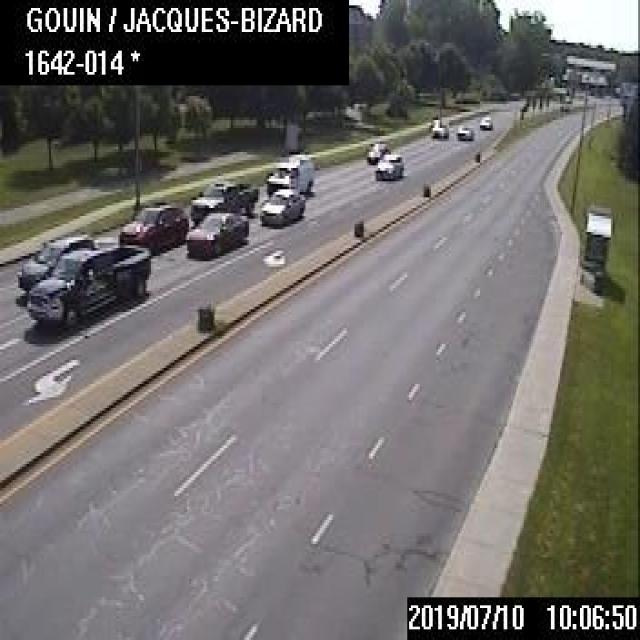vehicle: (26, 243, 150, 326), (16, 235, 96, 293), (116, 203, 187, 252), (189, 178, 257, 224), (184, 210, 248, 256), (265, 153, 312, 194), (258, 186, 304, 222), (372, 152, 402, 178), (365, 141, 389, 163), (430, 118, 448, 136), (454, 122, 472, 138), (478, 114, 492, 127)
